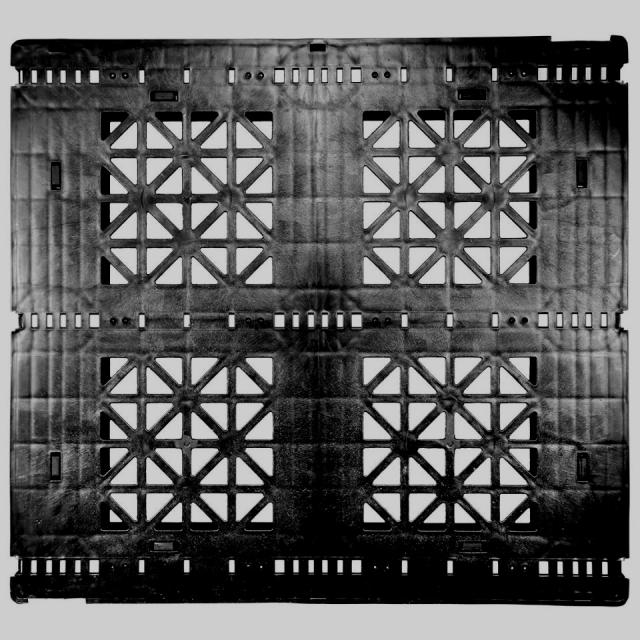non-igps: (7, 36, 632, 608)
